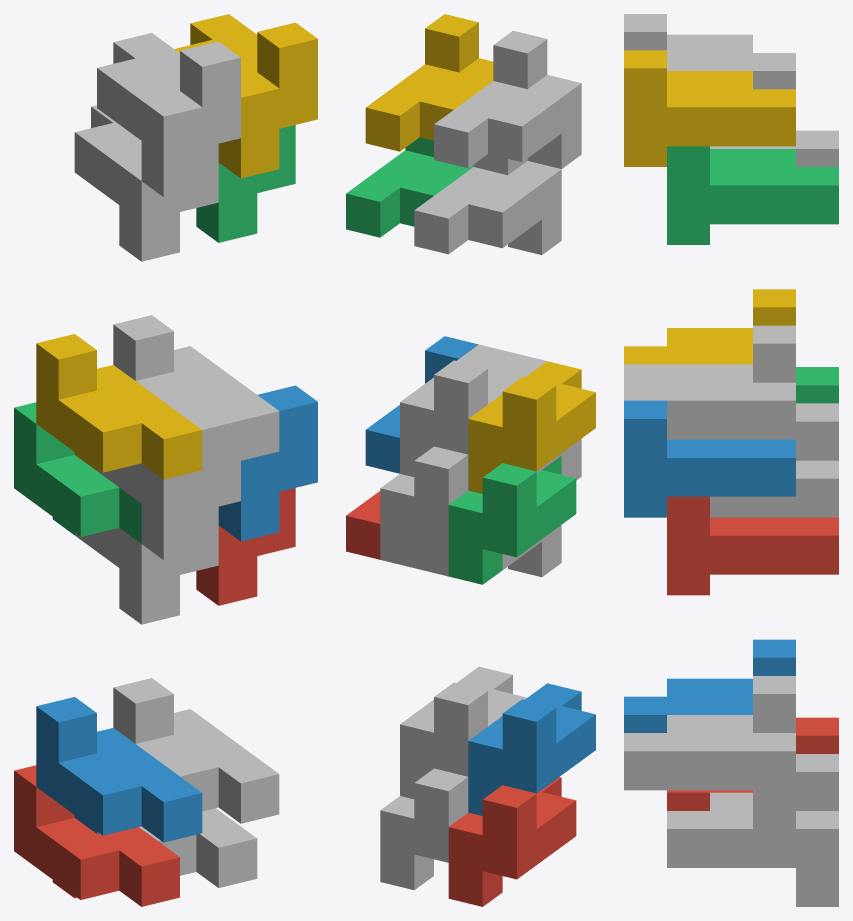
File: tiling.obj
The picture shows the model from 3 angles, left to right: view 1: azimuth 30°, elevation 25°; view 2: azimuth 150°, elevation 25°; view 3: azimuth 270°, elevation 25°; orthographic projection. The views are drawn at different scales.
Parts seen in each view (by area): view 1: copy_2_domain_4, copy_1_domain_2, copy_1_domain_4, copy_1_domain_1, copy_2_domain_8, copy_1_domain_6, copy_2_domain_2, copy_2_domain_3, copy_1_domain_8, copy_1_domain_3, copy_2_domain_6, copy_2_domain_1 (+3 smaller); view 2: copy_2_domain_4, copy_2_domain_3, copy_1_domain_1, copy_1_domain_3, copy_1_domain_2, copy_1_domain_4, copy_2_domain_8, copy_1_domain_6, copy_1_domain_8, copy_1_domain_5, copy_1_domain_7, copy_2_domain_7 (+4 smaller); view 3: copy_1_domain_6, copy_2_domain_8, copy_1_domain_5, copy_2_domain_7, copy_2_domain_6, copy_1_domain_8, copy_2_domain_5, copy_1_domain_7, copy_1_domain_2, copy_2_domain_4, copy_1_domain_4, copy_1_domain_1 (+3 smaller).
Boxes of the visible parts, left/top/right/bottom form: copy_2_domain_4: left=97, top=33, right=240, bottom=197; copy_1_domain_2: left=36, top=697, right=202, bottom=842; copy_1_domain_4: left=36, top=334, right=202, bottom=479; copy_1_domain_1: left=14, top=765, right=179, bottom=906; copy_2_domain_8: left=174, top=14, right=317, bottom=178; copy_1_domain_6: left=113, top=678, right=279, bottom=823; copy_2_domain_2: left=97, top=404, right=240, bottom=560; copy_2_domain_3: left=74, top=105, right=218, bottom=261; copy_1_domain_8: left=113, top=315, right=279, bottom=460; copy_1_domain_3: left=14, top=402, right=141, bottom=543; copy_2_domain_6: left=218, top=385, right=317, bottom=541; copy_2_domain_1: left=74, top=506, right=218, bottom=624; copy_2_domain_4: left=434, top=30, right=581, bottom=168; copy_2_domain_3: left=414, top=154, right=561, bottom=254; copy_1_domain_1: left=448, top=777, right=576, bottom=906; copy_1_domain_3: left=448, top=456, right=576, bottom=584; copy_1_domain_2: left=468, top=683, right=595, bottom=815; copy_1_domain_4: left=468, top=361, right=595, bottom=493; copy_2_domain_8: left=365, top=14, right=493, bottom=151; copy_1_domain_6: left=400, top=666, right=526, bottom=799; copy_1_domain_8: left=400, top=344, right=527, bottom=476; copy_1_domain_5: left=380, top=768, right=468, bottom=890; copy_1_domain_7: left=380, top=446, right=468, bottom=567; copy_2_domain_7: left=346, top=137, right=473, bottom=237; copy_1_domain_6: left=624, top=676, right=795, bottom=828; copy_2_domain_8: left=624, top=50, right=795, bottom=166; copy_1_domain_5: left=667, top=754, right=838, bottom=906; copy_2_domain_7: left=667, top=146, right=838, bottom=244; copy_2_domain_6: left=624, top=400, right=795, bottom=517; copy_1_domain_8: left=624, top=325, right=795, bottom=439; copy_2_domain_5: left=667, top=496, right=838, bottom=595; copy_1_domain_7: left=710, top=403, right=838, bottom=517; copy_1_domain_2: left=624, top=639, right=795, bottom=732; copy_2_domain_4: left=624, top=14, right=795, bottom=89; copy_1_domain_4: left=624, top=289, right=795, bottom=364; copy_1_domain_1: left=667, top=717, right=838, bottom=810.
Size of the model in its own units: 5 by 22 by 5.
